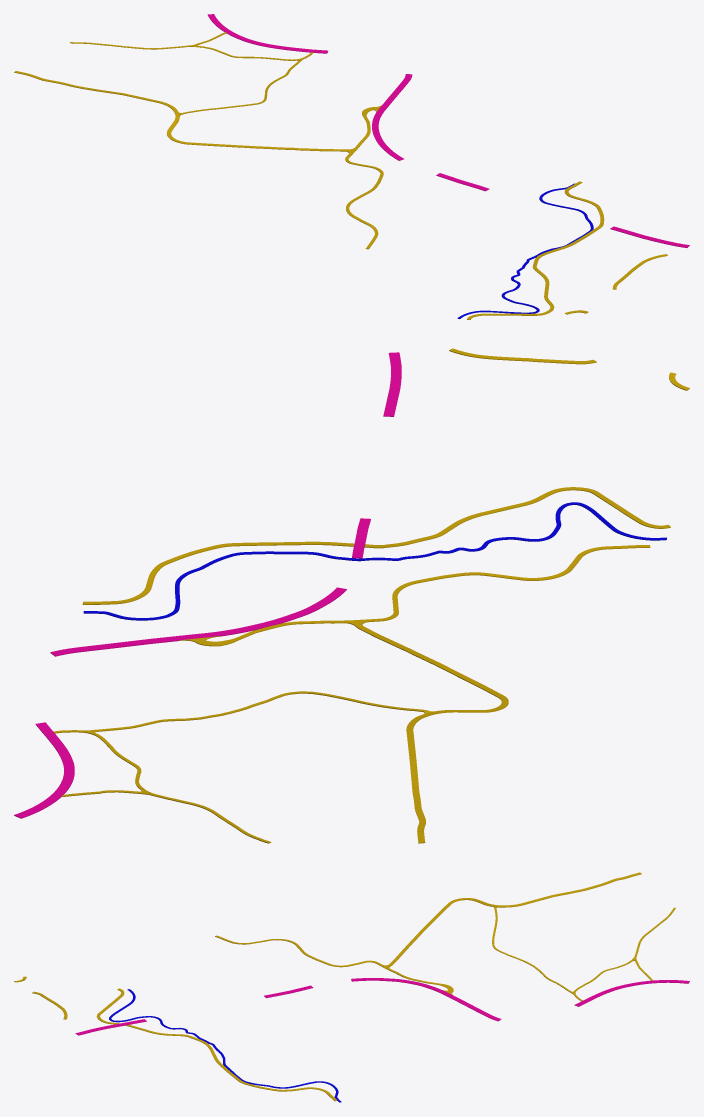
The model's file is 道路と河川.FBX.
3 views of the same model, one above another, from view 1: azimuth 30°, elevation 25°; view 2: azimuth 150°, elevation 25°; view 3: azimuth 270°, elevation 25° (orthographic). The views are drawn at different scales.
Visible parts, largest first — view 1: 道路, 国道, 河川; view 2: 道路, 国道, 河川; view 3: 道路, 国道, 河川.
Boxes of the visible parts, bbox=[...] form: 道路: bbox=[14, 32, 667, 319]; 国道: bbox=[207, 14, 689, 247]; 河川: bbox=[457, 183, 593, 318]; 道路: bbox=[53, 348, 689, 843]; 国道: bbox=[14, 352, 401, 818]; 河川: bbox=[83, 502, 666, 620]; 道路: bbox=[14, 872, 675, 1101]; 国道: bbox=[75, 978, 689, 1035]; 河川: bbox=[109, 989, 341, 1102].
Size of the model in its own units: 946 by 185 by 1649.
